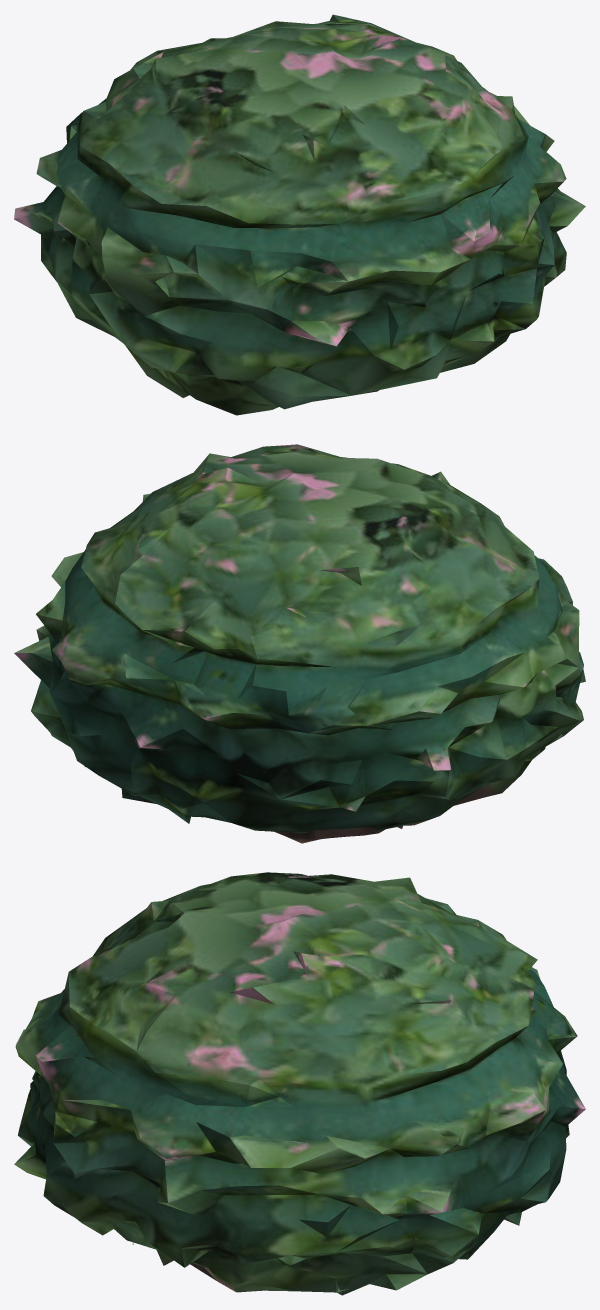
The model's file is shrub_azalea.glb.
3 views of the same model, one above another, from view 1: azimuth 30°, elevation 25°; view 2: azimuth 150°, elevation 25°; view 3: azimuth 270°, elevation 25° (orthographic). The views are drawn at different scales.
Parts seen in each view (by area): view 1: shrub_azalea; view 2: shrub_azalea; view 3: shrub_azalea.
Boxes of the visible parts, x1,y1,x2,y2 form: shrub_azalea: [14, 14, 585, 415]; shrub_azalea: [14, 444, 585, 843]; shrub_azalea: [14, 872, 585, 1295].
Bounding box in the file's own units: 1.49 × 1.08 × 1.48.
1 material, 1 textured.
